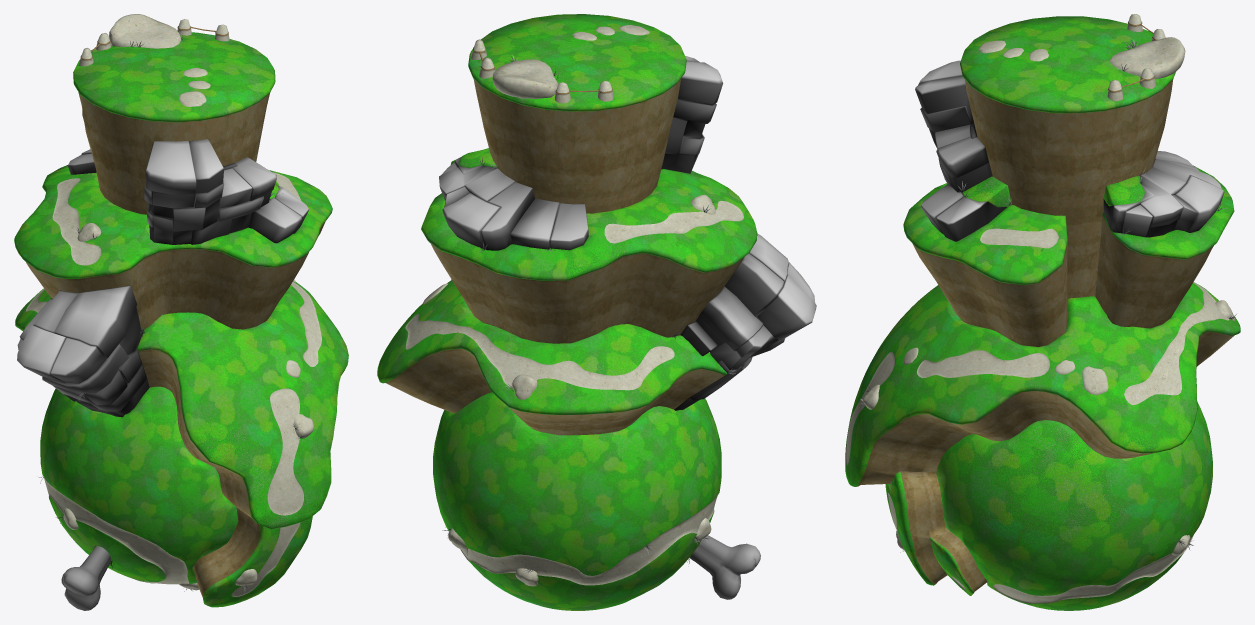
Rendered from YoshiClimbMountainPlanet.dae.
3 renders of one model, left to right at view 1: azimuth 30°, elevation 25°; view 2: azimuth 150°, elevation 25°; view 3: azimuth 270°, elevation 25°, orthographic. The views are drawn at different scales.
Parts seen in each view (by area): view 1: YoshiClimbMountainPlanet (×9); view 2: YoshiClimbMountainPlanet (×9); view 3: YoshiClimbMountainPlanet (×8).
Part boxes in pixels (box(x1,y1,x2,y2)): YoshiClimbMountainPlanet (×9): box(14, 14, 348, 610); YoshiClimbMountainPlanet (×9): box(377, 14, 816, 610); YoshiClimbMountainPlanet (×8): box(845, 14, 1240, 610).
Bounding box in the file's own units: 2884 × 4245 × 2741.
